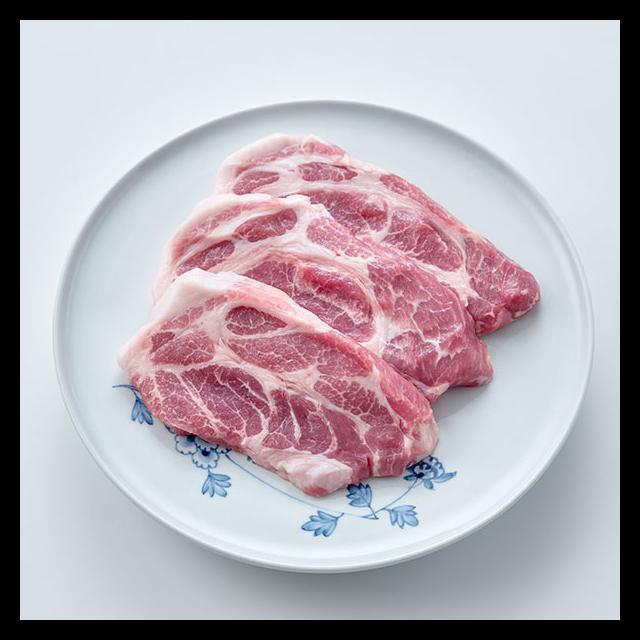beef: (117, 269, 441, 497), (159, 193, 491, 401), (217, 131, 541, 333)
